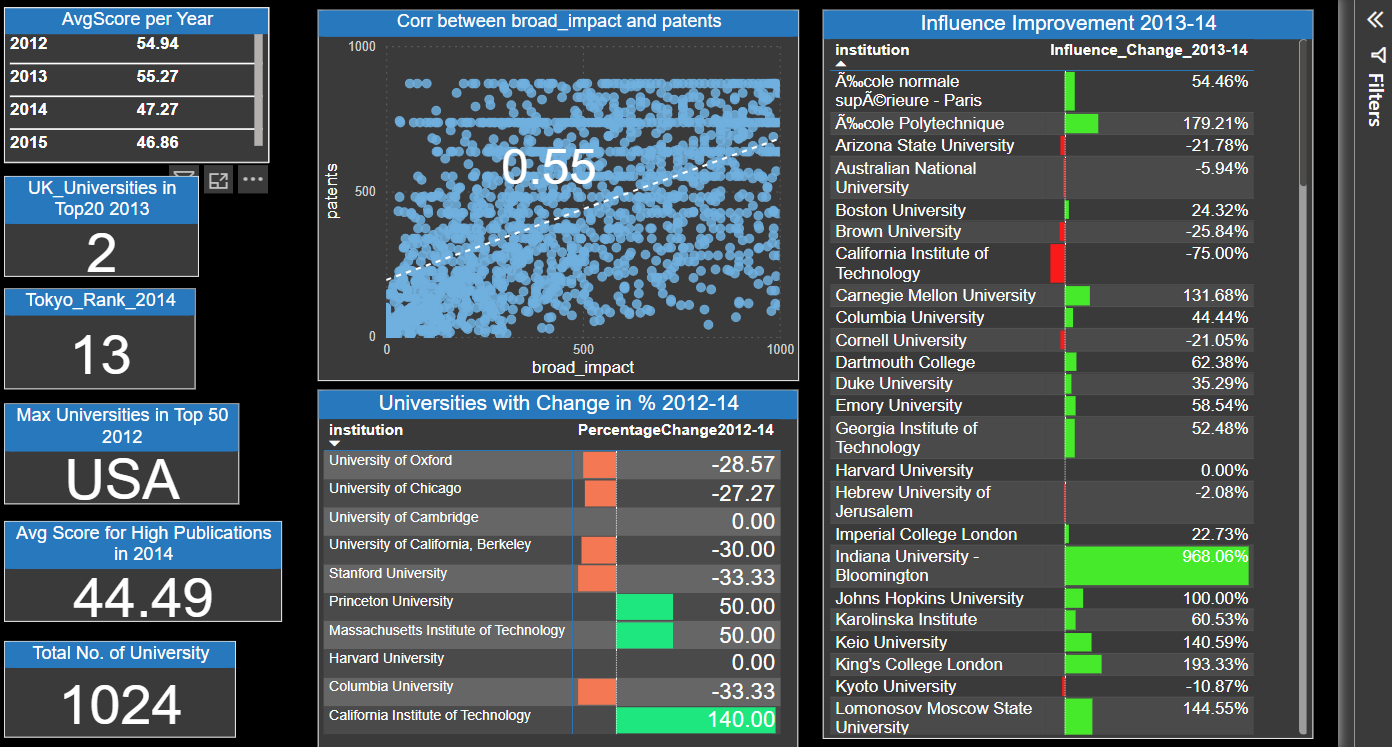

The dashboard page shown, as its layout file describes it:
{"tool":"powerbi","page":{"name":"Que. 8 - 16","canvas":[1280,720],"ordinal":1},"visuals":[{"type":"multiRowCard","title":"AvgScore per Year","fields":{"Values":["world_ranking_universities.year","world_ranking_universities.AvgScore"]},"box":[9.6,11,252.5,148.2],"z":0},{"type":"card","title":"UK_Universities in Top20 2013 ","fields":{"Values":["world_ranking_universities.UK_Top20_Universities_2013"]},"box":[9.6,171.5,185.2,96.1],"z":1000},{"type":"card","title":"Tokyo_Rank_2014","fields":{"Values":["world_ranking_universities.Tokyo_Rank_2014"]},"box":[9.6,278.6,182.5,96.1],"z":2000},{"type":"card","title":"Max Universities in Top 50 2012","fields":{"Values":["world_ranking_universities.Top_Country_Top50_2012"]},"box":[9.6,388.3,223.7,96.1],"z":3000},{"type":"card","title":"Avg Score for High Publications in 2014","fields":{"Values":["world_ranking_universities.Measure"]},"box":[9.6,499.5,264.8,96.1],"z":4000},{"type":"group","id":"g1","title":"Group 1","box":[308.7,12.5,457.6,354.2],"z":5000},{"type":"scatterChart","title":"Corr between broad_impact and patents","fields":{"Y":["world_ranking_universities.patents"],"X":["world_ranking_universities.broad_impact"]},"box":[308.7,12.5,458.3,353.6],"z":6000,"group":"g2"},{"type":"pivotTable","title":"Universities with Change in % 2012-14","fields":{"Values":["world_ranking_universities.PercentageChange"],"Rows":["world_ranking_universities.institution"]},"box":[308.7,374.5,457.6,344.8],"z":6000},{"type":"tableEx","title":"Influence Improvement 2013-14","fields":{"Values":["world_ranking_universities.institution","world_ranking_universities.Influence_Change"]},"box":[789.8,12.5,467,694.2],"z":7000},{"type":"card","fields":{"Values":["world_ranking_universities.Correlation_Patents_BroadImpact_2014"]},"box":[369.2,94.3,319.1,128.6],"z":7000,"group":"g2"},{"type":"card","title":"Total No. of University","fields":{"Values":["world_ranking_universities.Count_of_Universities"]},"box":[9.6,614.8,220.9,91.9],"z":8000},{"type":"group","id":"g2","title":"Group 2","box":[308.7,12.5,457.6,354.2],"z":8001,"group":"g1"}]}

Visuals, with their boxes on the page's 1280x720 design canvas (x1, y1, x2, y2). These are canvas units, not pixel positions in the 1392x747 screenshot, which may show the page scaled, cropped or inside an application window:
"AvgScore per Year" multiRowCard: bbox(10, 11, 262, 159)
"UK_Universities in Top20 2013 " card: bbox(10, 172, 195, 268)
"Tokyo_Rank_2014" card: bbox(10, 279, 192, 375)
"Max Universities in Top 50 2012" card: bbox(10, 388, 233, 484)
"Avg Score for High Publications in 2014" card: bbox(10, 500, 274, 596)
"Group 1" group: bbox(309, 12, 766, 367)
"Corr between broad_impact and patents" scatterChart: bbox(309, 12, 767, 366)
"Universities with Change in % 2012-14" pivotTable: bbox(309, 374, 766, 719)
"Influence Improvement 2013-14" tableEx: bbox(790, 12, 1257, 707)
card - world_ranking_universities.Correlation_Patents_BroadImpact_2014: bbox(369, 94, 688, 223)
"Total No. of University" card: bbox(10, 615, 230, 707)
"Group 2" group: bbox(309, 12, 766, 367)
